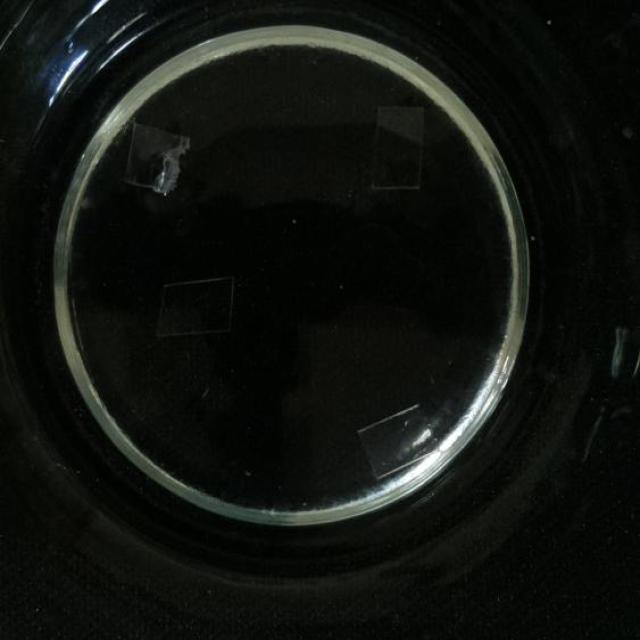fiber: (356, 402, 439, 482), (150, 272, 241, 335), (124, 117, 192, 199), (366, 101, 425, 192)
